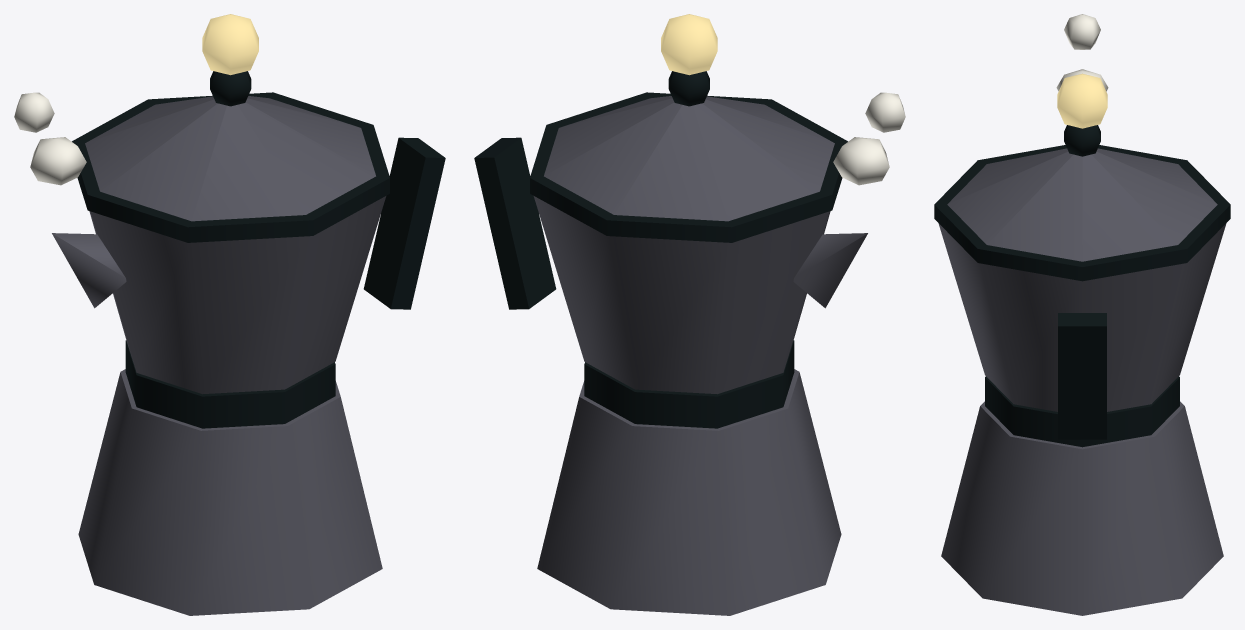
File: mokapot-lighthouse.glb
3 renders of one model, left to right at view 1: azimuth 30°, elevation 25°; view 2: azimuth 150°, elevation 25°; view 3: azimuth 270°, elevation 25°, orthographic. The views are drawn at different scales.
Visible parts, largest first — view 1: MokaPotLighthouse; view 2: MokaPotLighthouse; view 3: MokaPotLighthouse.
Boxes of the visible parts, bbox=[...] form: MokaPotLighthouse: bbox=[14, 14, 445, 615]; MokaPotLighthouse: bbox=[474, 14, 905, 615]; MokaPotLighthouse: bbox=[934, 14, 1230, 615].
Size of the model in its own units: 4.44 by 5.45 by 3.04.
